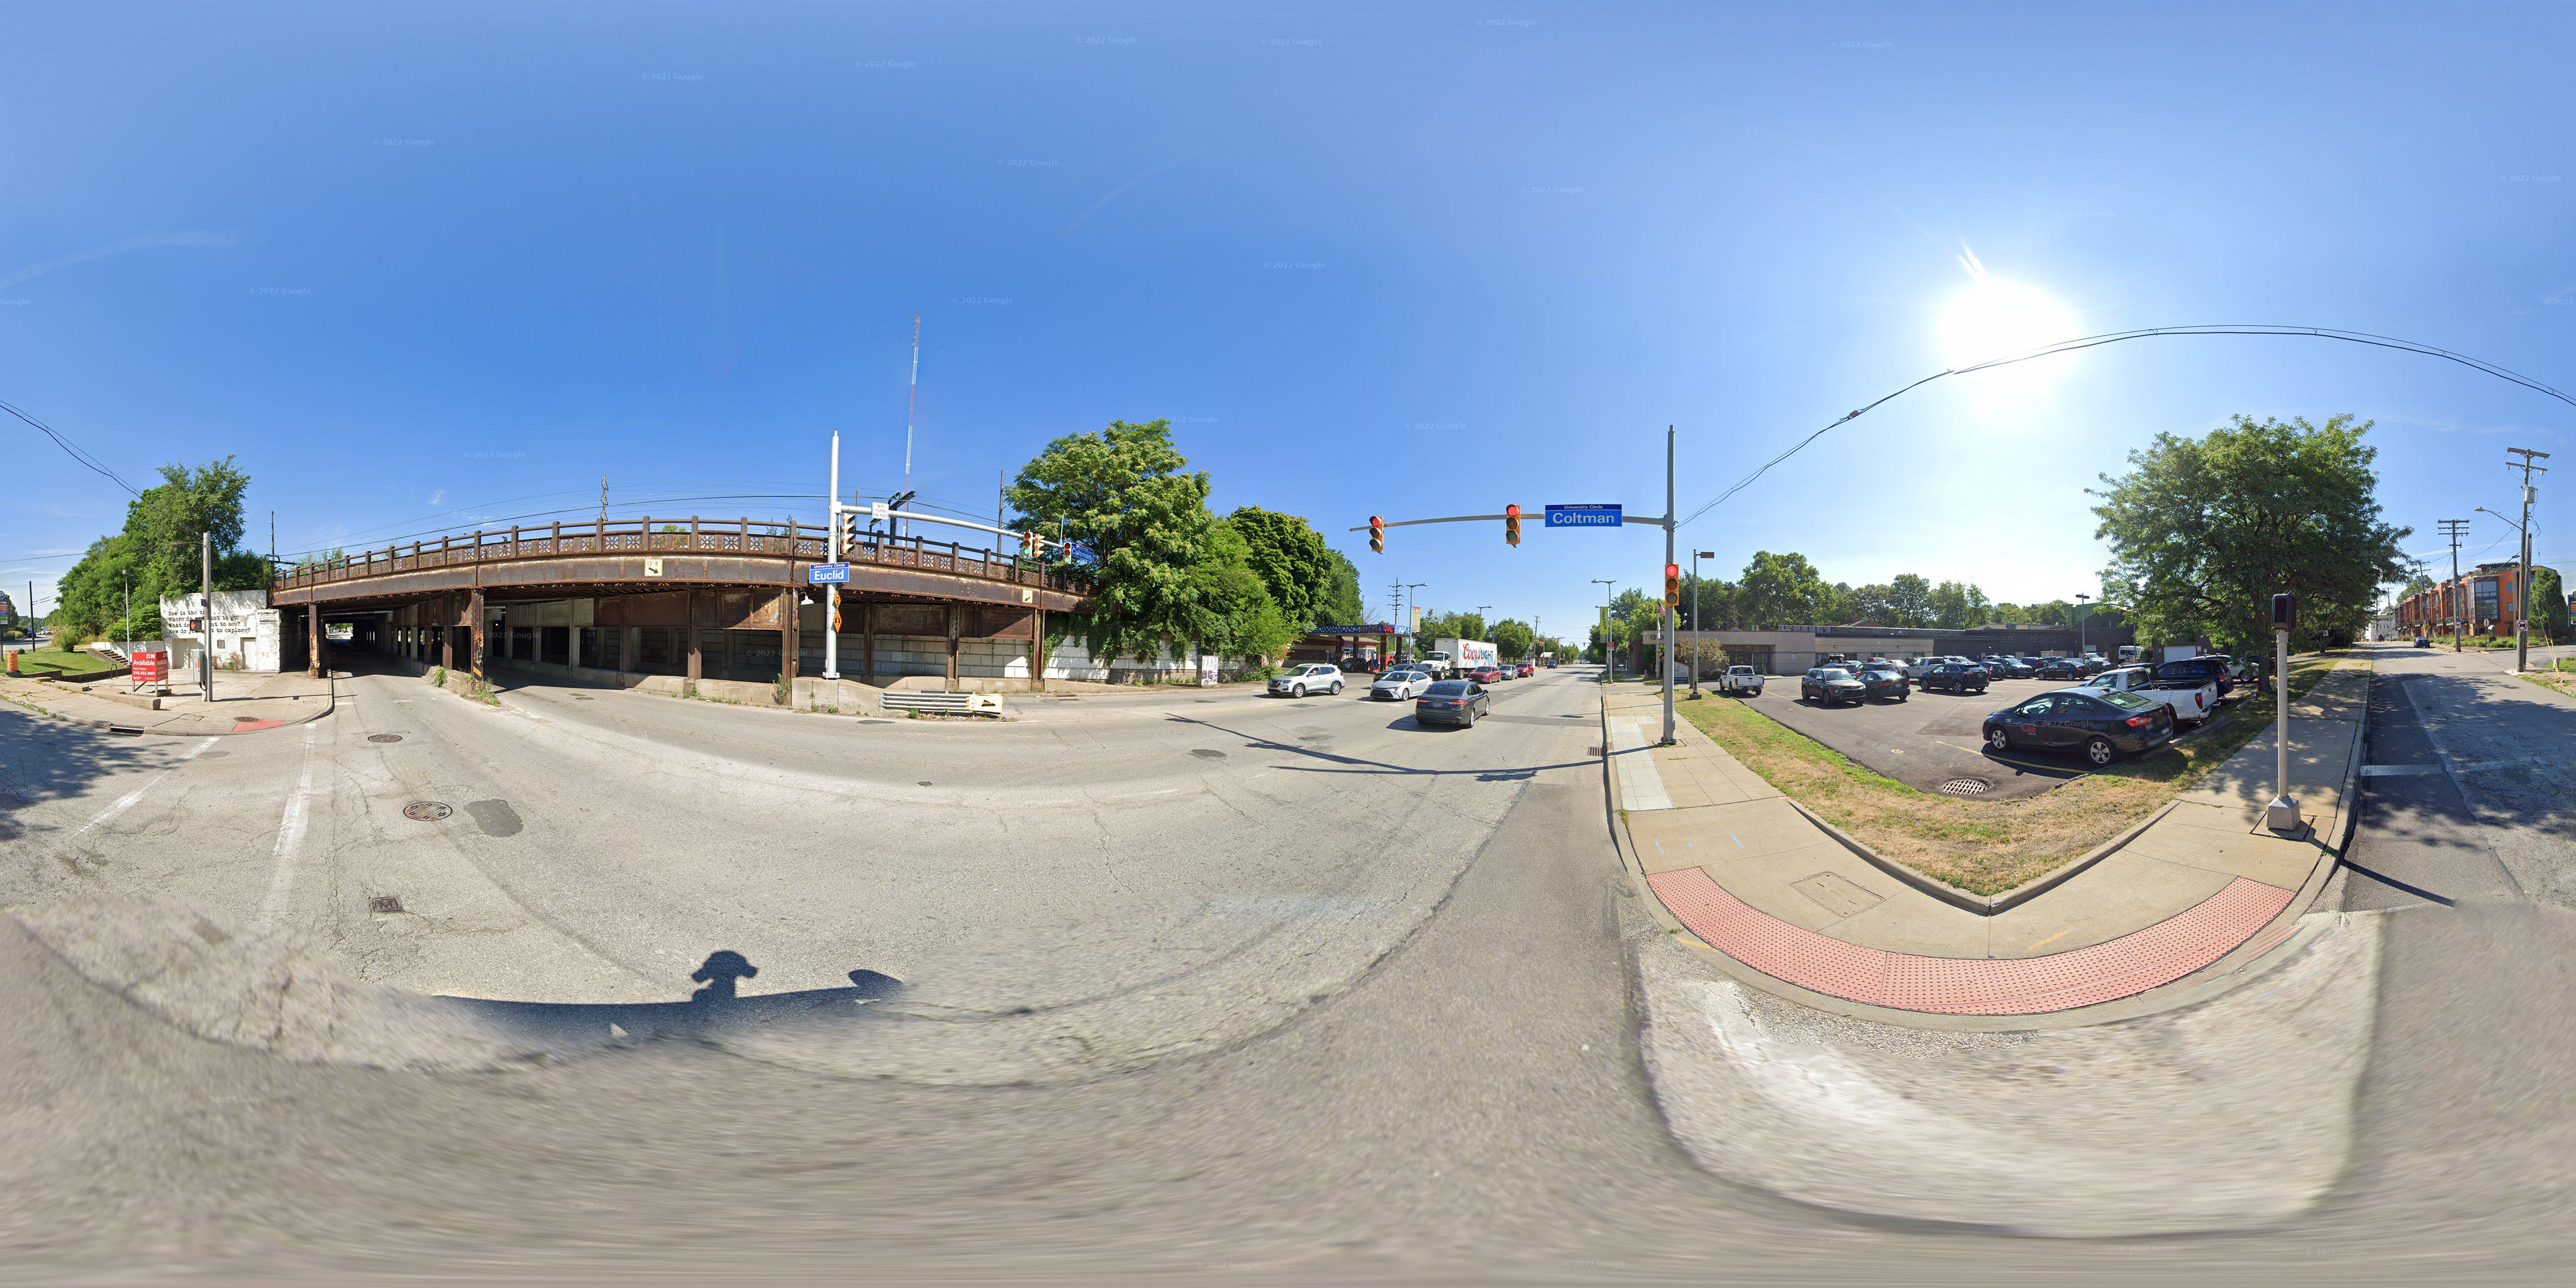Curb Ramp: (1584, 793, 2357, 1055), (215, 701, 304, 744)
